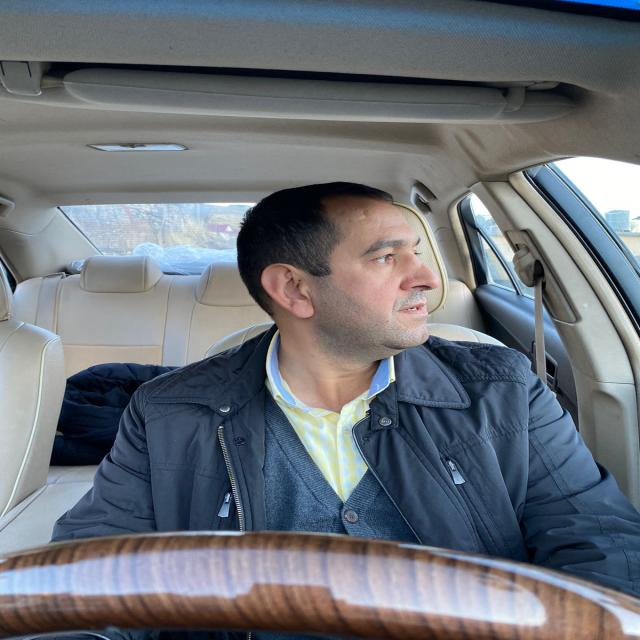LeftRight: (223, 167, 487, 401)
